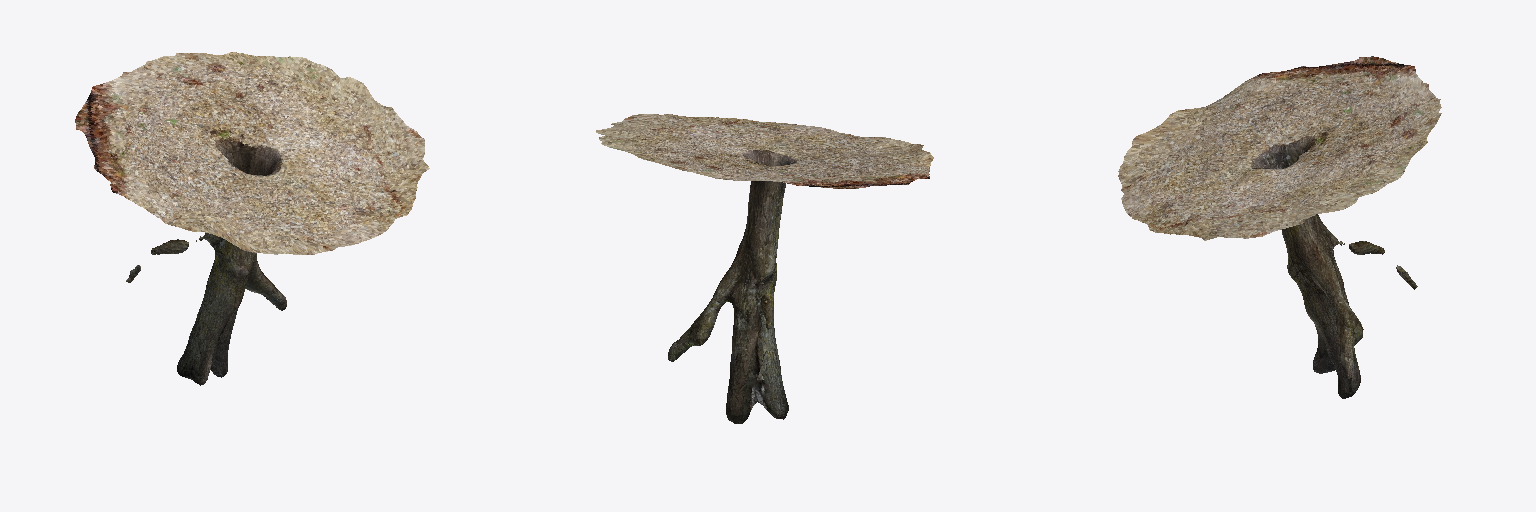
3 views of the same model, side by side, from view 1: azimuth 30°, elevation 25°; view 2: azimuth 150°, elevation 25°; view 3: azimuth 270°, elevation 25° (orthographic).
Bounding box in the file's own units: 1.88 × 1.69 × 1.73.
1 materials, 1 textured.